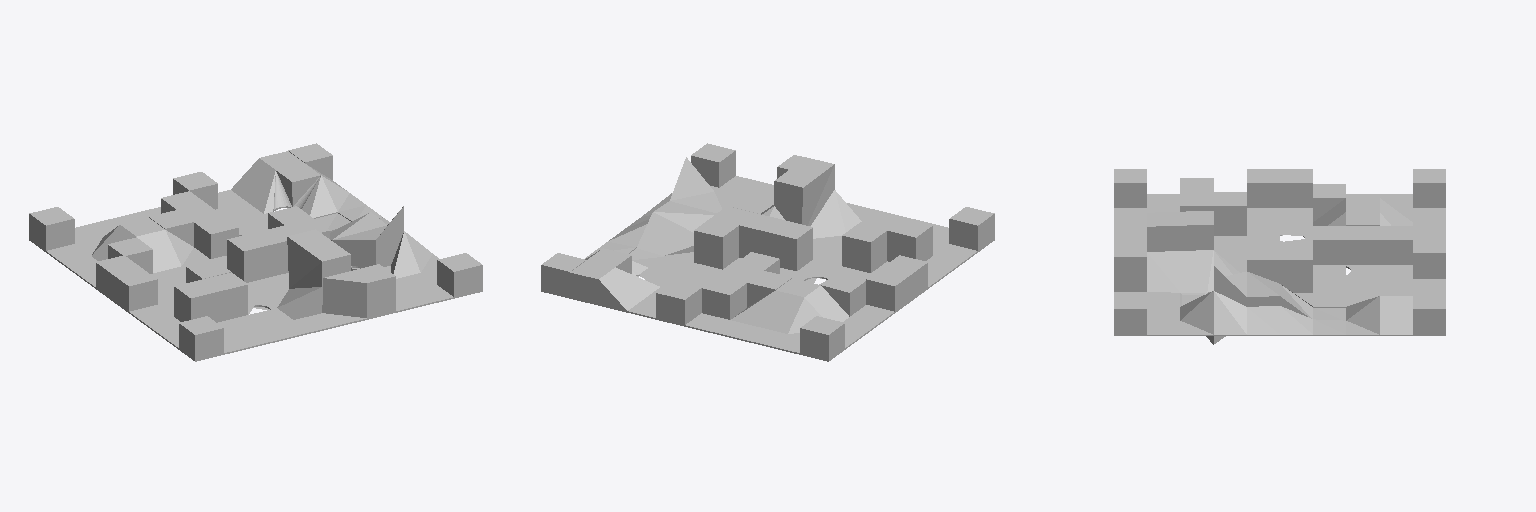
Rendered from Suelo1.obj.
3 views of the same model, side by side, from view 1: azimuth 30°, elevation 25°; view 2: azimuth 150°, elevation 25°; view 3: azimuth 270°, elevation 25° (orthographic).
Parts seen in each view (by area): view 1: Cube; view 2: Cube; view 3: Cube.
Part boxes in pixels (left/top/right/bottom): Cube: left=29, top=143, right=482, bottom=361; Cube: left=541, top=143, right=994, bottom=361; Cube: left=1114, top=169, right=1445, bottom=344.
Size of the model in its own units: 20 by 6.22 by 20.